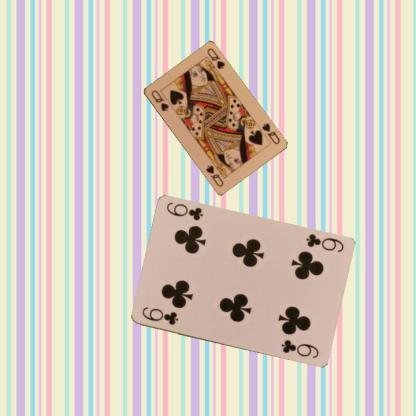6c: (303, 231, 345, 254), (138, 304, 180, 326)
Qs: (148, 87, 170, 113), (259, 120, 281, 146)
